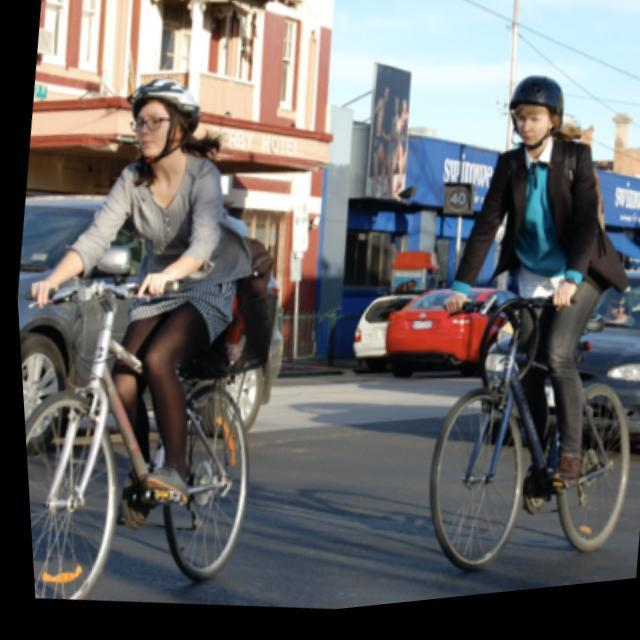Helmet: (119, 72, 203, 168), (502, 68, 568, 162)
